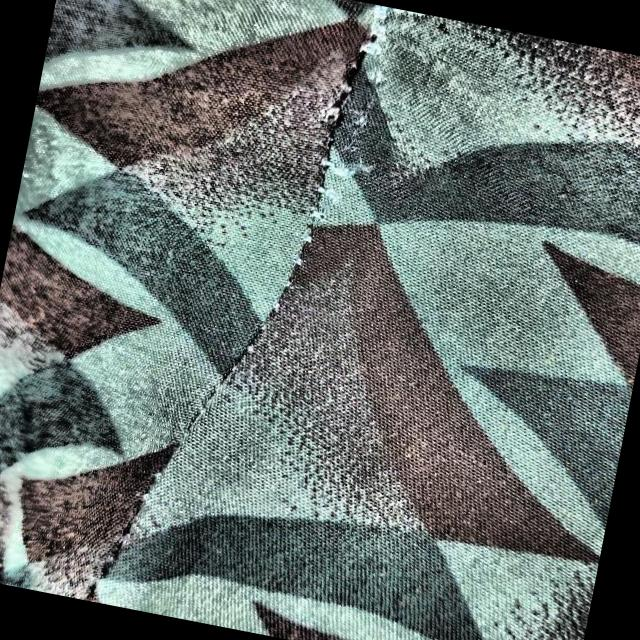gray stitch: (270, 0, 411, 277)
